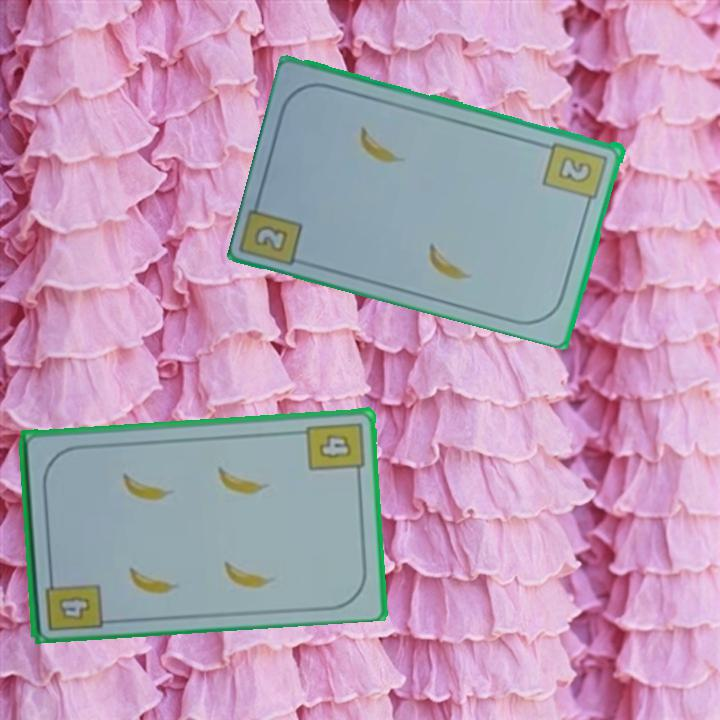2b: (541, 138, 611, 210), (251, 221, 292, 255)
4b: (41, 568, 105, 634), (303, 418, 367, 481)
